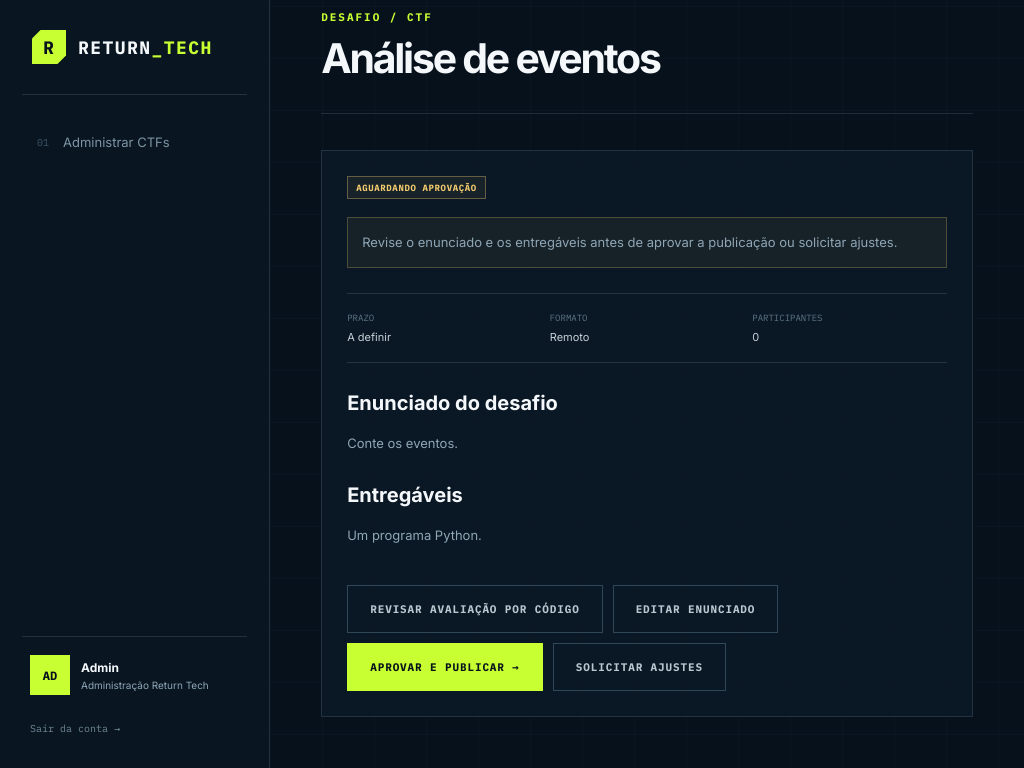
Test: integration with existing project flows › shows approval progress and blocks repeated clicks while the request is pending
(page scrolled)
Click the button "APROVAR E PUBLICAR →": (445,667) [347, 643, 543, 691]
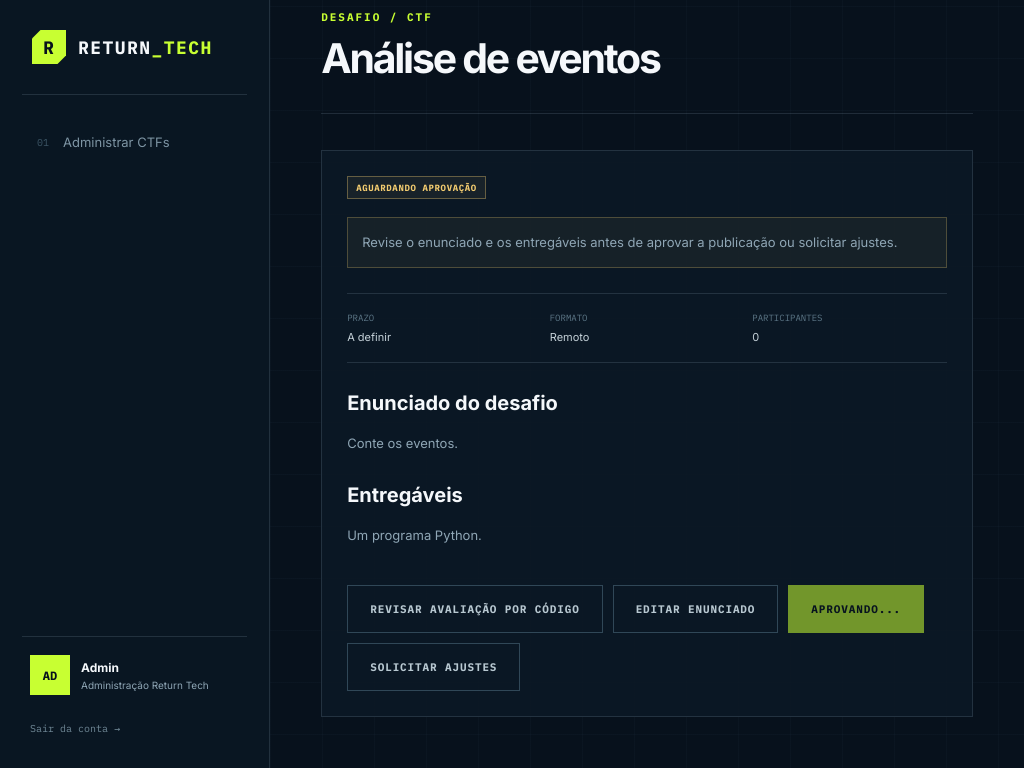
Expected: the button "APROVANDO..." is disabled
Click the button "APROVANDO...": (856,609) [788, 585, 924, 633]
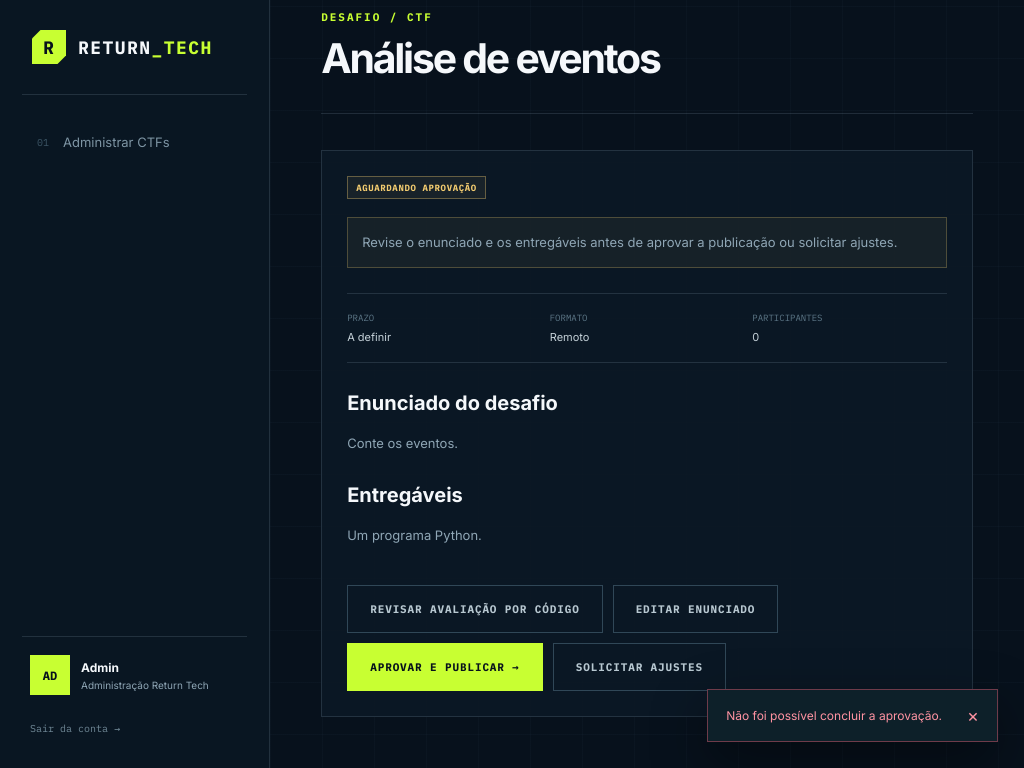
Expected: the message named "Erro na operação" is shown, [707, 689, 998, 742]
Expected: the button "APROVAR E PUBLICAR →" is enabled, [347, 643, 543, 691]
